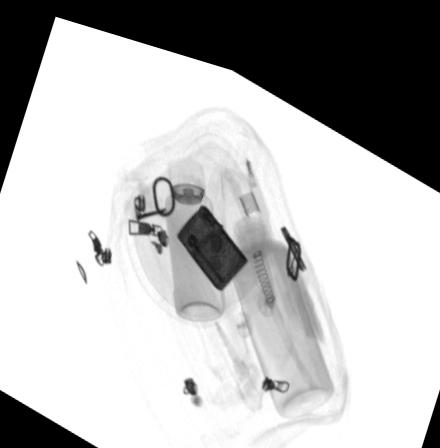Lighter: (176, 190, 249, 276)
Sprayer: (165, 144, 225, 309)
